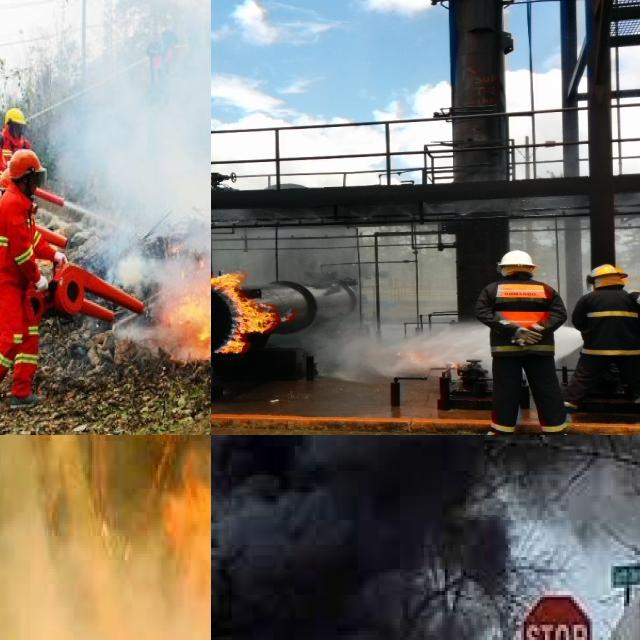fire: (150, 435, 211, 640), (211, 267, 280, 358)
smoke: (211, 435, 608, 640), (52, 0, 211, 251), (0, 512, 211, 640)
